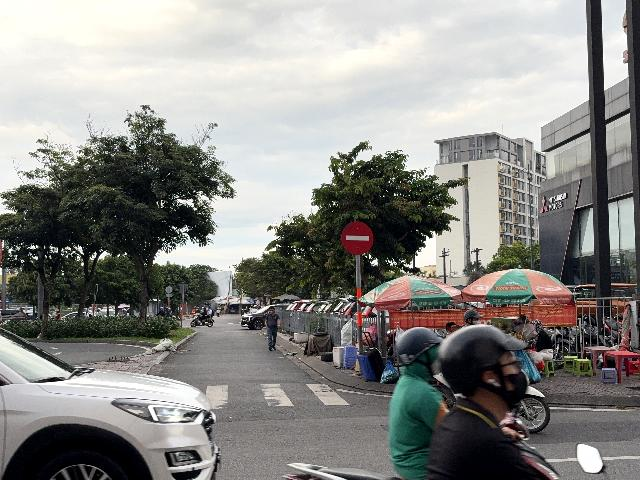cam-di-nguoc-chieu: (341, 222, 373, 255)
